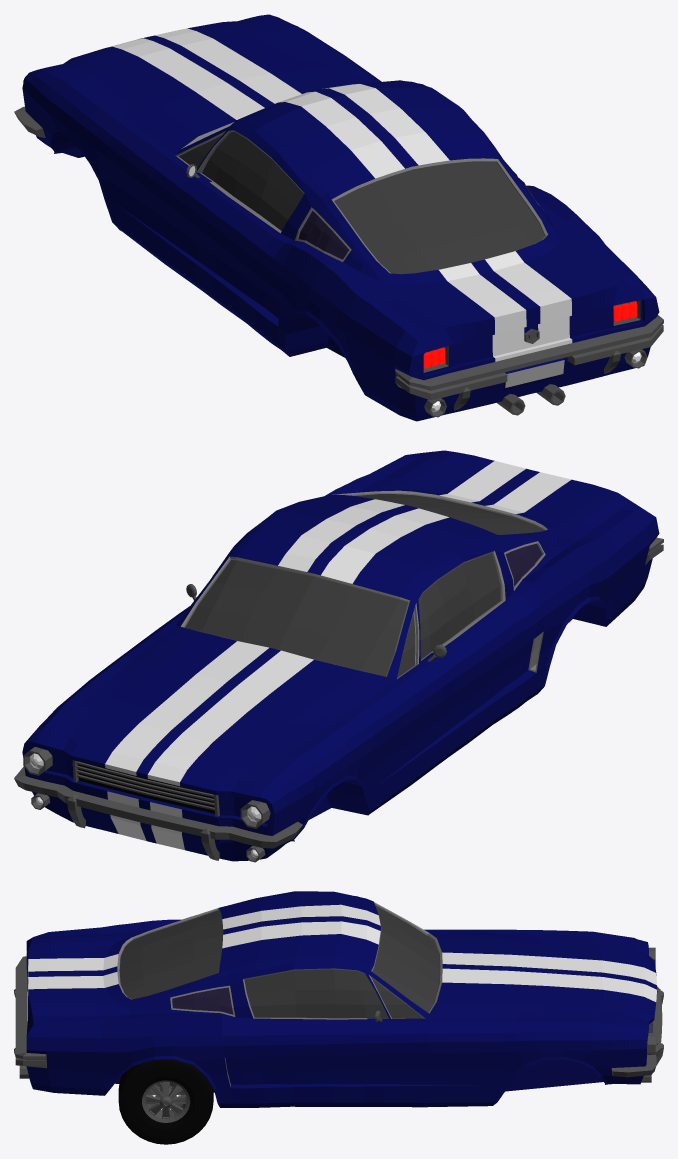
The model's file is mustang.fbx.
3 views of the same model, one above another, from view 1: azimuth 30°, elevation 25°; view 2: azimuth 150°, elevation 25°; view 3: azimuth 270°, elevation 25° (orthographic). The views are drawn at different scales.
Visible parts, largest first — view 1: Car, Muffler; view 2: Car; view 3: Car, RubberWheel, RimWheel.
Part boxes in pixels (bbox=[...]): Car: bbox=[14, 14, 663, 421]; Muffler: bbox=[497, 384, 565, 415]; Car: bbox=[14, 450, 663, 862]; Car: bbox=[14, 891, 663, 1107]; RubberWheel: bbox=[118, 1059, 213, 1144]; RimWheel: bbox=[142, 1080, 190, 1122].
Size of the model in its own units: 198 by 152 by 505.
